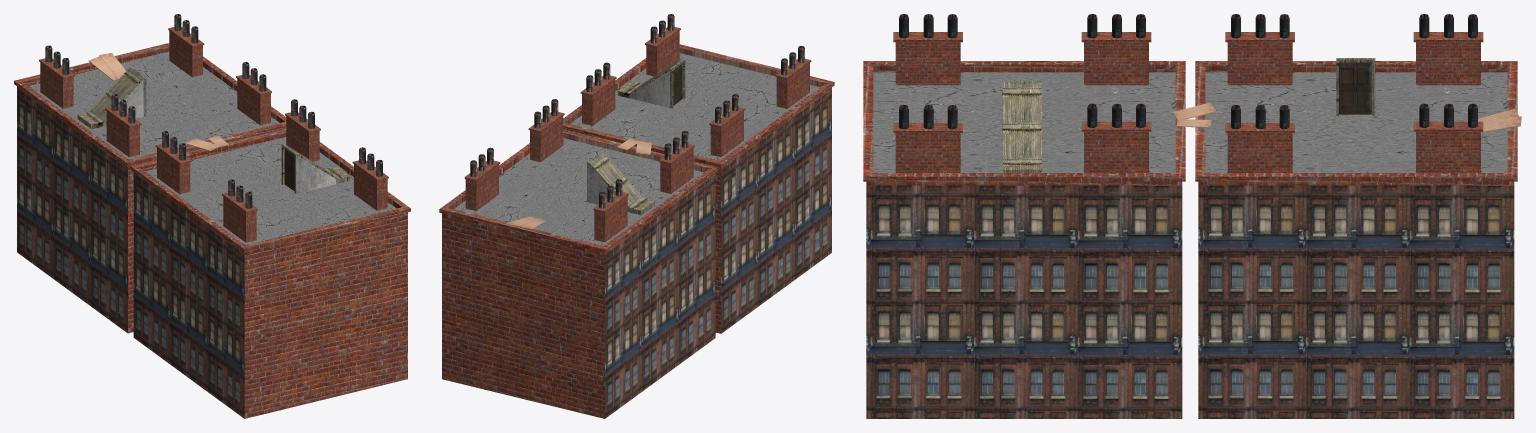
Rendered from Box2WithTextures01.obj.
3 renders of one model, left to right at view 1: azimuth 30°, elevation 25°; view 2: azimuth 150°, elevation 25°; view 3: azimuth 270°, elevation 25°, orthographic. The views are drawn at different scales.
Parts seen in each view (by area): view 1: Main.001_BrickWallMat, Main.001_BrickWallWindowsMat, Main.002_BrickWallWindowsMat.001, Main.001_HardFloorMat, Main.002_HardFloorMat.001, Main.002_BrickWallMat.007, RoofExit.001_RoofCoverMat.001, Pipe_BrickWallMat, Pipe.005_BrickWallMat.005, Pipe.004_BrickWallMat.004, Pipe.006_BrickWallMat.006, Pipe.007_BrickWallMat.007 (+7 smaller); view 2: Main.002_BrickWallMat.007, Main.001_BrickWallWindowsMat, Main.002_BrickWallWindowsMat.001, Main.002_HardFloorMat.001, Main.001_HardFloorMat, Main.001_BrickWallMat, RoofExit.001_RoofCoverMat.001, Pipe.003_BrickWallMat.003, Pipe.006_BrickWallMat.006, Pipe.004_BrickWallMat.004, Pipe_BrickWallMat, Pipe.005_BrickWallMat.005 (+6 smaller); view 3: Main.001_BrickWallWindowsMat, Main.002_BrickWallWindowsMat.001, Main.002_HardFloorMat.001, Main.001_HardFloorMat, Main.001_BrickWallMat, Main.002_BrickWallMat.007, RoofExit_RoofCoverMat, Pipe_BrickWallMat, Pipe.007_BrickWallMat.007, Pipe.002_BrickWallMat.002, Pipe.005_BrickWallMat.005, Pipe.003_BrickWallMat.003 (+4 smaller).
Boxes of the visible parts, x1=… form: Main.001_BrickWallMat: x1=130, y1=128, x2=410, y2=418; Main.001_BrickWallWindowsMat: x1=133, y1=174, x2=244, y2=418; Main.002_BrickWallWindowsMat.001: x1=17, y1=88, x2=127, y2=333; Main.001_HardFloorMat: x1=145, y1=137, x2=396, y2=244; Main.002_HardFloorMat.001: x1=28, y1=52, x2=279, y2=159; Main.002_BrickWallMat.007: x1=14, y1=43, x2=286, y2=333; RoofExit.001_RoofCoverMat.001: x1=77, y1=66, x2=146, y2=129; Pipe_BrickWallMat: x1=222, y1=192, x2=257, y2=242; Pipe.005_BrickWallMat.005: x1=39, y1=58, x2=74, y2=108; Pipe.004_BrickWallMat.004: x1=168, y1=27, x2=204, y2=77; Pipe.006_BrickWallMat.006: x1=236, y1=75, x2=271, y2=125; Pipe.007_BrickWallMat.007: x1=105, y1=107, x2=141, y2=157; Main.002_BrickWallMat.007: x1=439, y1=129, x2=718, y2=418; Main.001_BrickWallWindowsMat: x1=721, y1=89, x2=831, y2=333; Main.002_BrickWallWindowsMat.001: x1=605, y1=175, x2=715, y2=418; Main.002_HardFloorMat.001: x1=454, y1=138, x2=703, y2=245; Main.001_HardFloorMat: x1=570, y1=53, x2=819, y2=160; Main.001_BrickWallMat: x1=563, y1=44, x2=834, y2=333; RoofExit.001_RoofCoverMat.001: x1=587, y1=152, x2=655, y2=215; Pipe.003_BrickWallMat.003: x1=580, y1=75, x2=616, y2=125; Pipe.006_BrickWallMat.006: x1=528, y1=112, x2=564, y2=162; Pipe.004_BrickWallMat.004: x1=464, y1=160, x2=500, y2=210; Pipe_BrickWallMat: x1=775, y1=58, x2=811, y2=108; Pipe.005_BrickWallMat.005: x1=593, y1=192, x2=628, y2=242; Main.001_BrickWallWindowsMat: x1=866, y1=185, x2=1182, y2=418; Main.002_BrickWallWindowsMat.001: x1=1198, y1=185, x2=1514, y2=418; Main.002_HardFloorMat.001: x1=1205, y1=72, x2=1507, y2=172; Main.001_HardFloorMat: x1=873, y1=72, x2=1175, y2=172; Main.001_BrickWallMat: x1=863, y1=61, x2=1185, y2=185; Main.002_BrickWallMat.007: x1=1195, y1=61, x2=1517, y2=185; RoofExit_RoofCoverMat: x1=1002, y1=81, x2=1042, y2=172; Pipe_BrickWallMat: x1=893, y1=32, x2=962, y2=85; Pipe.007_BrickWallMat.007: x1=1225, y1=32, x2=1294, y2=85; Pipe.002_BrickWallMat.002: x1=1081, y1=32, x2=1151, y2=85; Pipe.005_BrickWallMat.005: x1=1413, y1=32, x2=1483, y2=85; Pipe.003_BrickWallMat.003: x1=1081, y1=121, x2=1151, y2=172.
Bounding box in the file's own units: 6.53 × 7.94 × 15.71.
